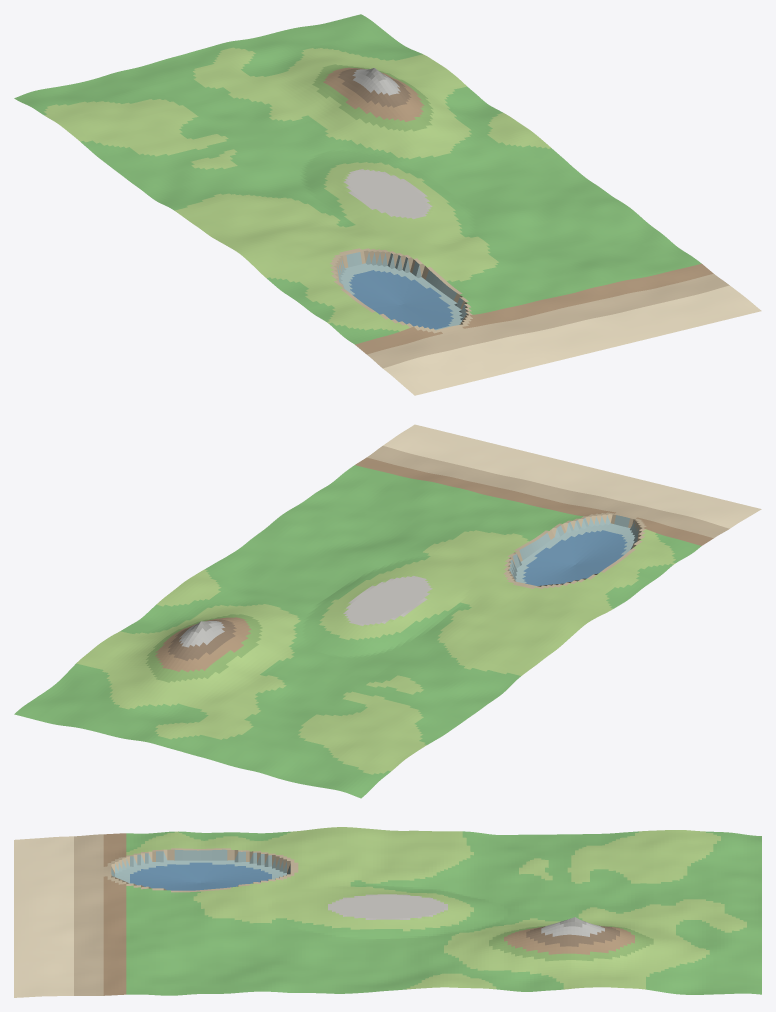
File: Terrain_Only.glb
3 renders of one model, top to bottom at view 1: azimuth 30°, elevation 25°; view 2: azimuth 150°, elevation 25°; view 3: azimuth 270°, elevation 25°, orthographic. The views are drawn at different scales.
Parts seen in each view (by area): view 1: Terrain; view 2: Terrain; view 3: Terrain.
Boxes of the visible parts, x1,y1,x2,y2 form: Terrain: (14, 14, 761, 395); Terrain: (14, 424, 761, 798); Terrain: (14, 827, 761, 997).
Bounding box in the file's own units: 200 × 26.44 × 400.
